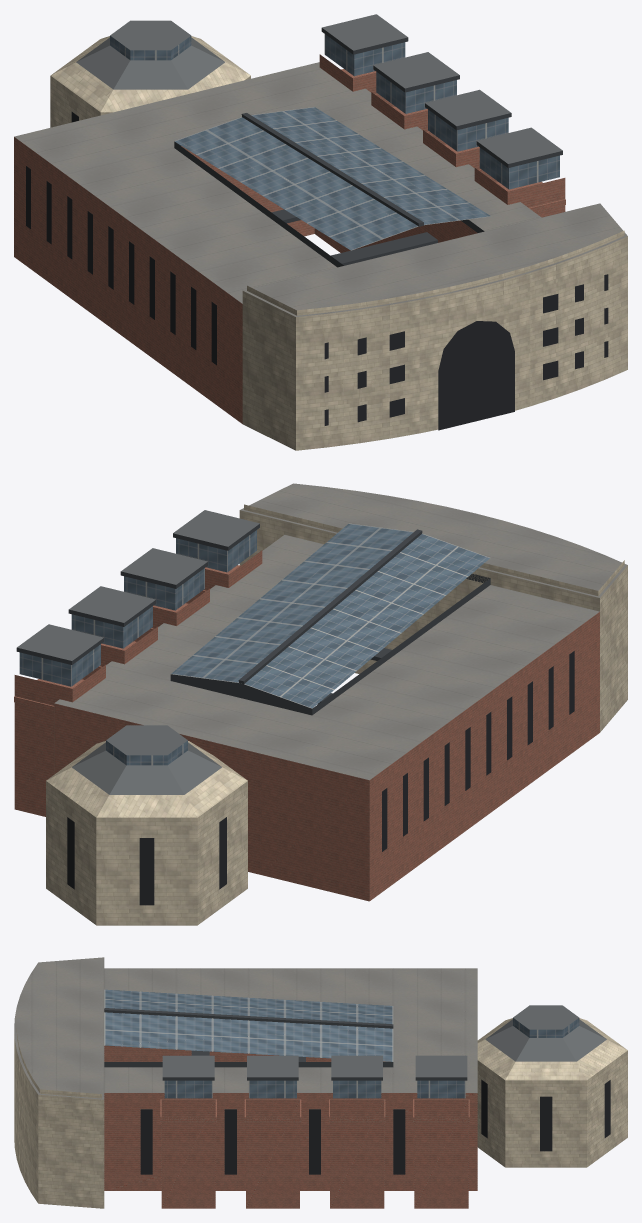
Rendered from holocaust_museum.glb.
3 renders of one model, top to bottom at view 1: azimuth 30°, elevation 25°; view 2: azimuth 150°, elevation 25°; view 3: azimuth 270°, elevation 25°, orthographic. The views are drawn at different scales.
Visible parts, largest first — view 1: holocaust_museum; view 2: holocaust_museum; view 3: holocaust_museum.
Boxes of the visible parts, x1=… form: holocaust_museum: x1=14, y1=14, x2=627, y2=450; holocaust_museum: x1=14, y1=483, x2=627, y2=925; holocaust_museum: x1=14, y1=957, x2=627, y2=1208.
Size of the model in its own units: 56.04 by 24 by 102.
Materials: 5 (5 with a texture image).
